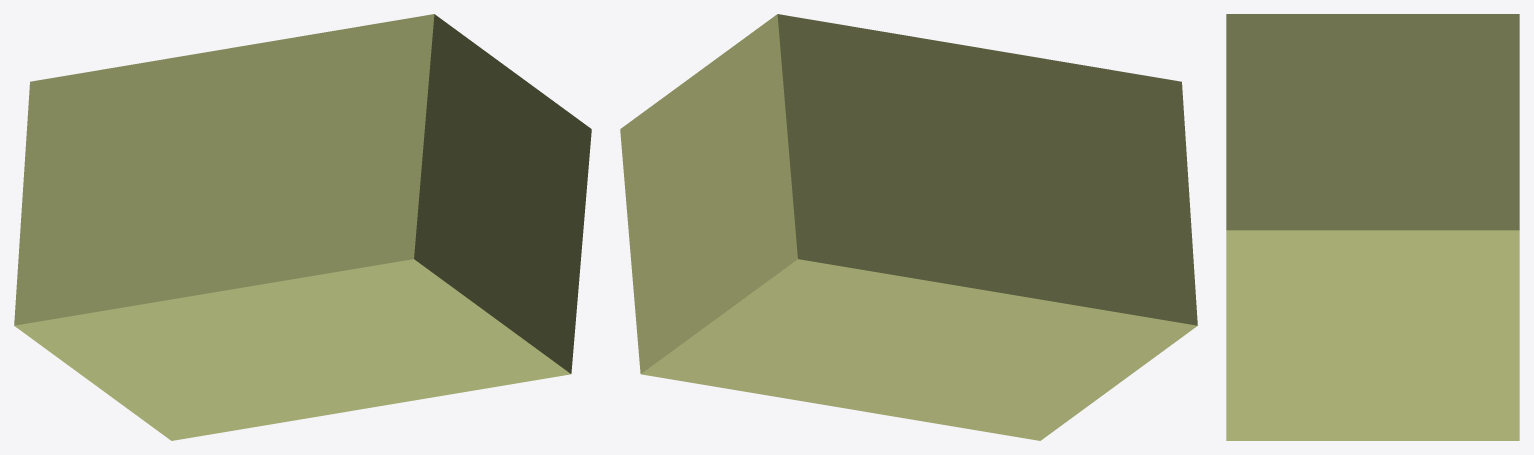
3 renders of one model, left to right at view 1: azimuth 30°, elevation 25°; view 2: azimuth 150°, elevation 25°; view 3: azimuth 270°, elevation 25°, orthographic. The views are drawn at different scales.
Parts seen in each view (by area): view 1: 0_0_3_2_0_0_1_0_2_3; view 2: 0_0_3_2_0_0_1_0_2_3; view 3: 0_0_3_2_0_0_1_0_2_3.
Part boxes in pixels (x1,y1,x2,y2): 0_0_3_2_0_0_1_0_2_3: (14, 14, 591, 440); 0_0_3_2_0_0_1_0_2_3: (620, 14, 1197, 440); 0_0_3_2_0_0_1_0_2_3: (1226, 14, 1519, 440).
Size of the model in its own units: 9.25 by 5.7 by 6.
